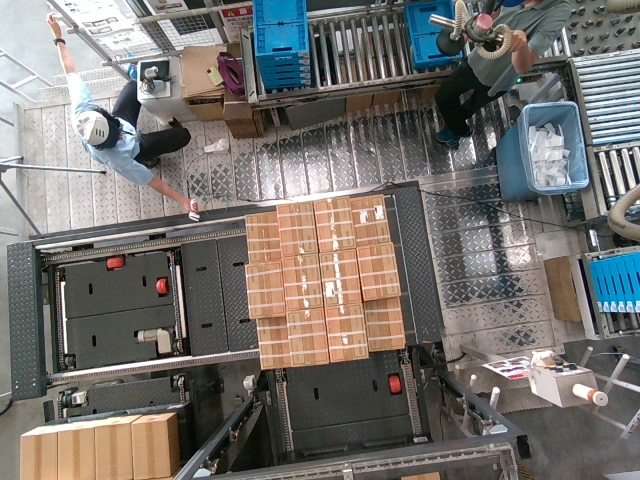box: (356, 243, 400, 297), (324, 305, 368, 358), (286, 309, 327, 363), (281, 254, 321, 308), (362, 295, 404, 346), (275, 204, 317, 254), (312, 200, 354, 249), (243, 264, 283, 315), (347, 197, 391, 243), (319, 251, 359, 301), (255, 318, 295, 368), (241, 210, 281, 259)
